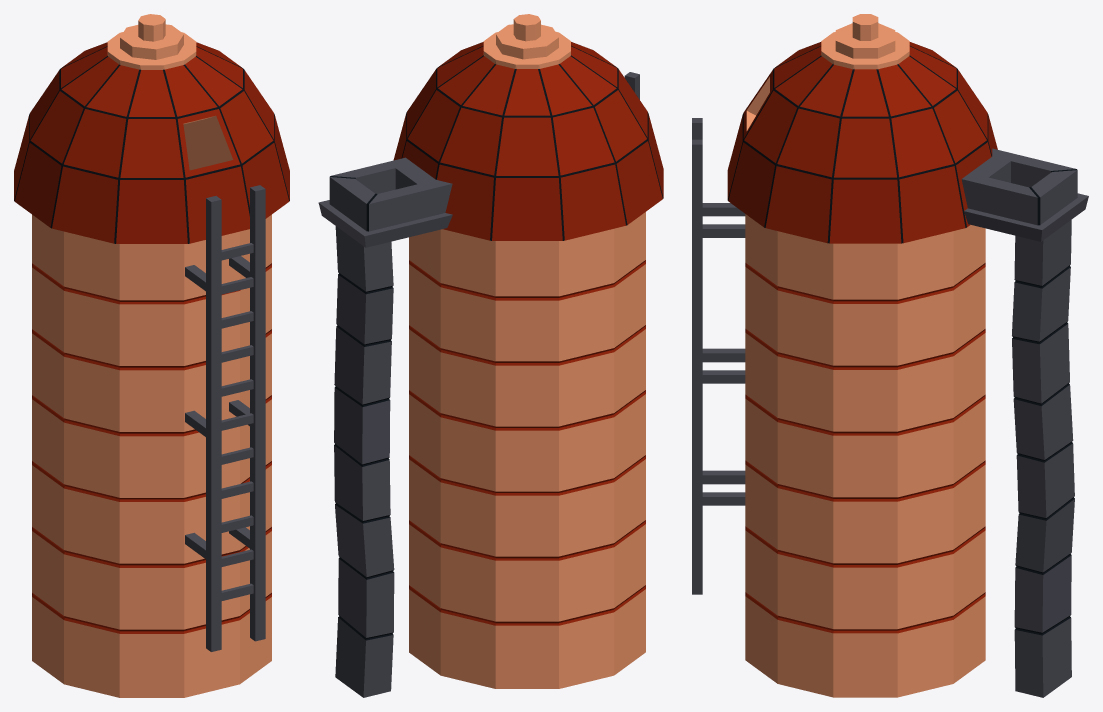
The model's file is Silo_2.001_1.fbx.
The picture shows the model from 3 angles, left to right: view 1: azimuth 30°, elevation 25°; view 2: azimuth 150°, elevation 25°; view 3: azimuth 270°, elevation 25°; orthographic projection.
Parts seen in each view (by area): view 1: Silo_2.001_1; view 2: Silo_2.001_1; view 3: Silo_2.001_1.
Part boxes in pixels (x1,y1,x2,y2): Silo_2.001_1: (14, 14, 289, 697); Silo_2.001_1: (318, 14, 663, 697); Silo_2.001_1: (692, 14, 1088, 697).
Bounding box in the file's own units: 122 × 303 × 173.
